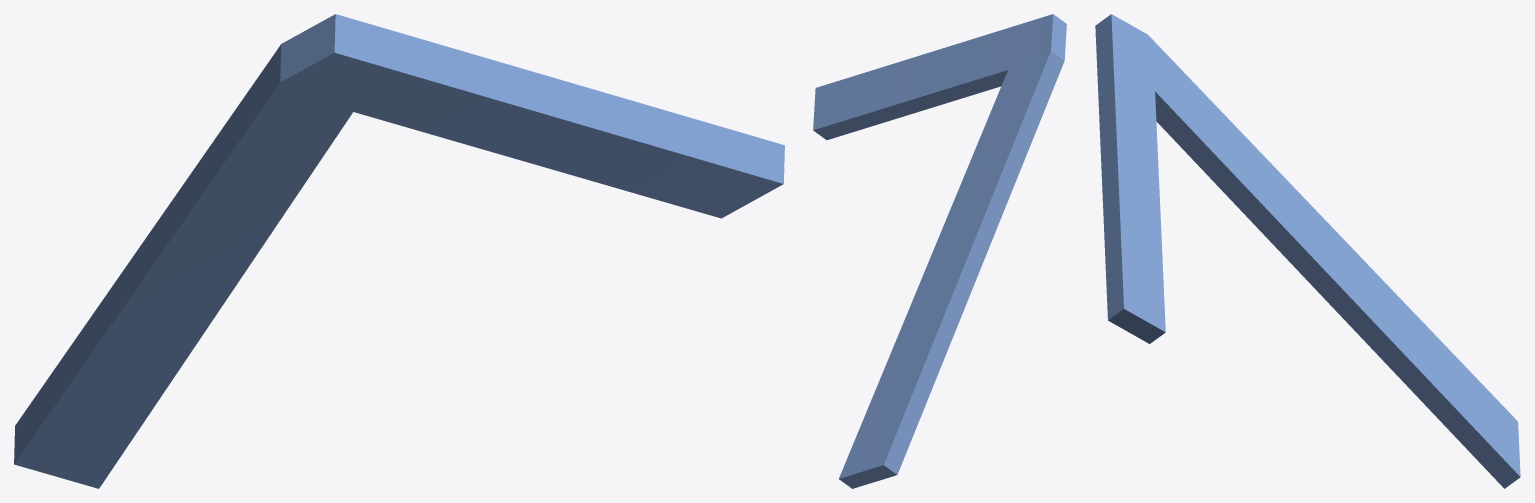
Rendered from New_Number_7.gltf.
The picture shows the model from 3 angles, left to right: view 1: azimuth 30°, elevation 25°; view 2: azimuth 150°, elevation 25°; view 3: azimuth 270°, elevation 25°; orthographic projection. The views are drawn at different scales.
Visible parts, largest first — view 1: Part 376; view 2: Part 376; view 3: Part 376.
Part boxes in pixels (x1,y1,x2,y2): Part 376: (14,14,784,488); Part 376: (813,14,1066,488); Part 376: (1095,14,1520,488).
Bounding box in the file's own units: 0.00352 × 0.00491 × 0.0042.
